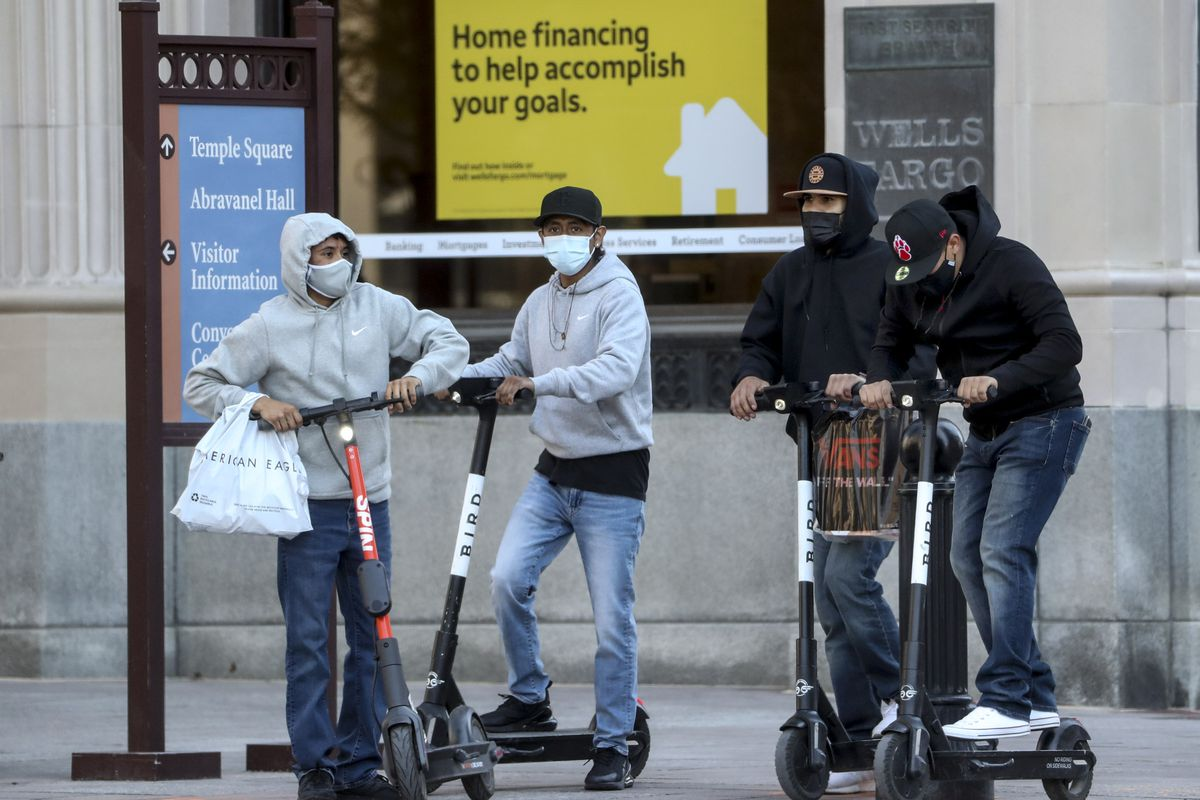with_mask: (803, 194, 844, 237), (545, 225, 591, 262), (313, 245, 349, 291)
